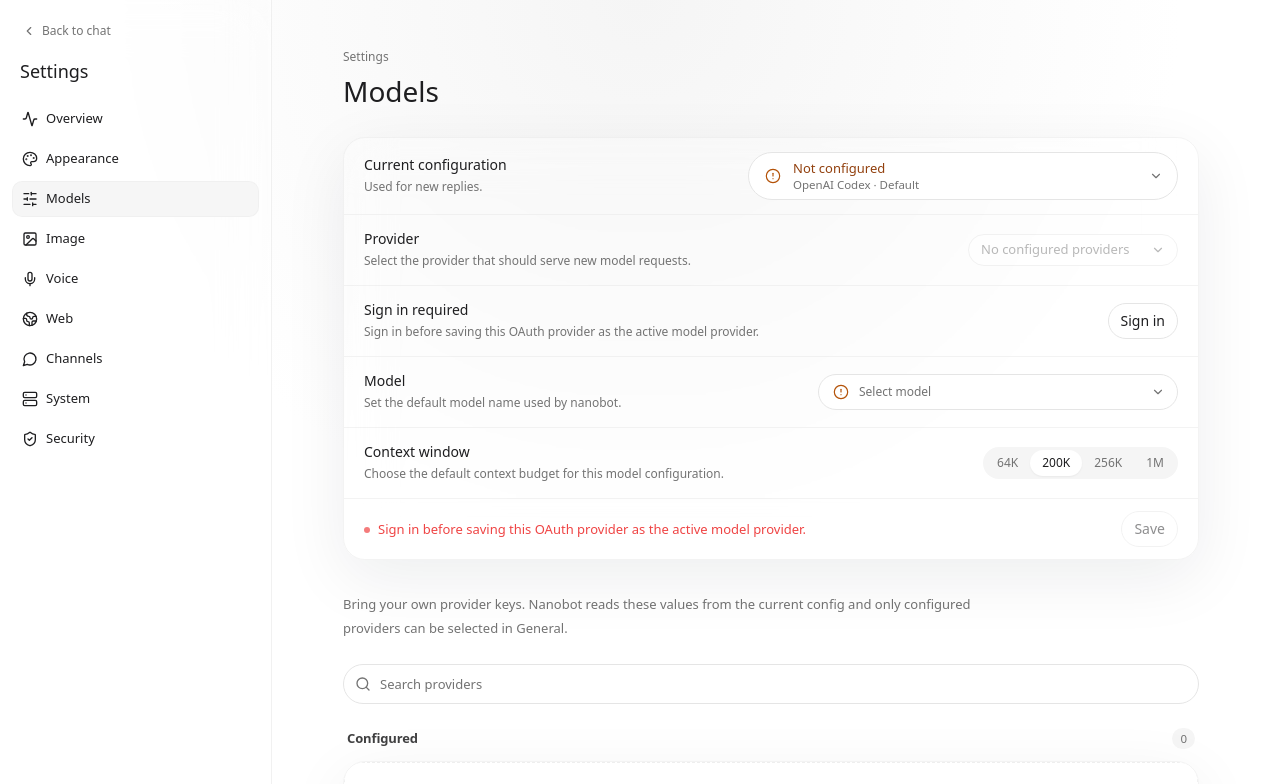
Test: SettingsView Apps catalog › does not fetch model lists for unsigned OAuth providers
The width and height of the screenshot is (1280, 784).
Press the mouse on the button "Select model": (895, 392) [818,374,1178,410]
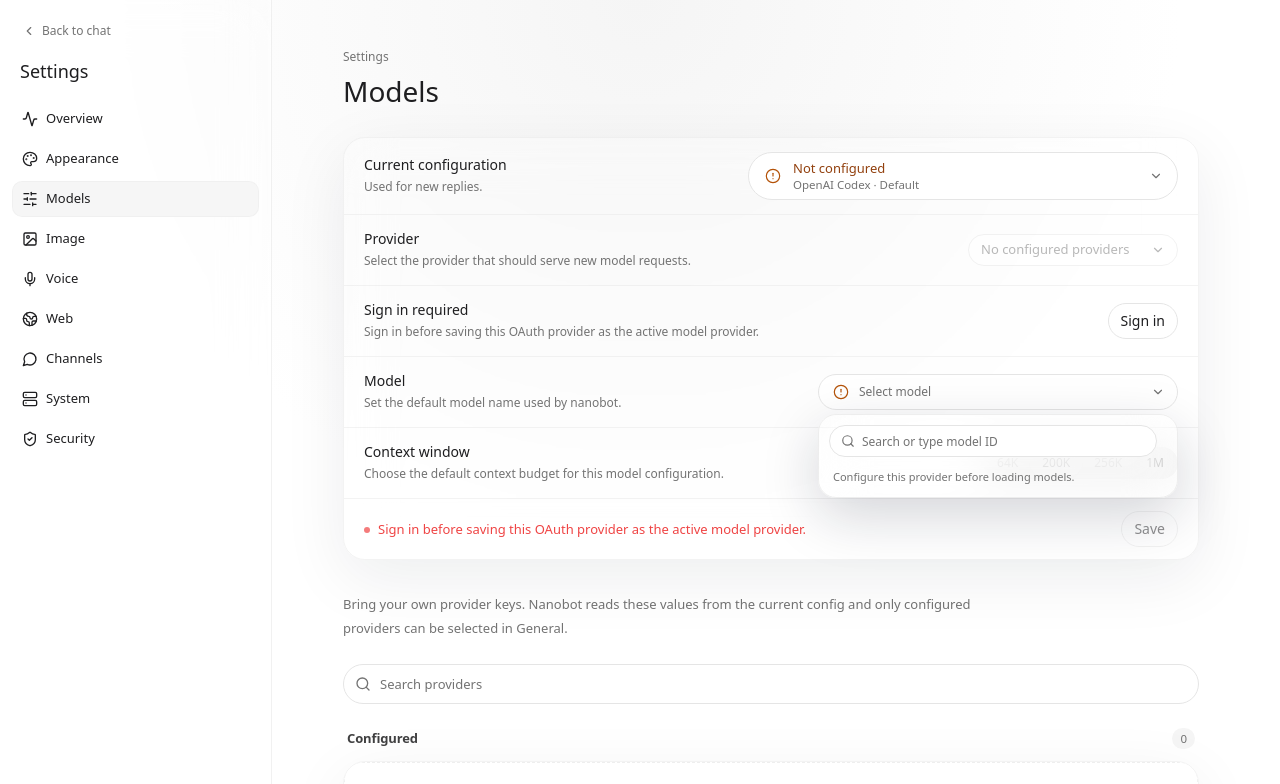
Expected: the text "Configure this provider before loading models." is shown, [833,469,1074,484]
